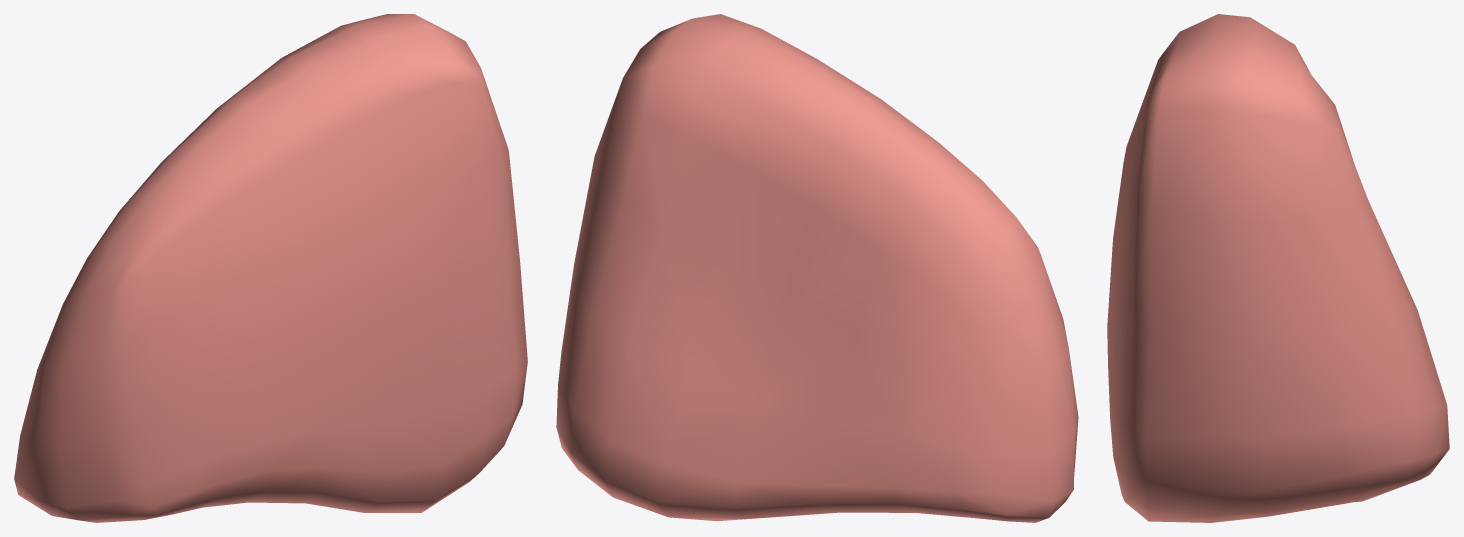
Rendered from mixamo_humanoid_surface_rightToe.fbx.
3 renders of one model, left to right at view 1: azimuth 30°, elevation 25°; view 2: azimuth 150°, elevation 25°; view 3: azimuth 270°, elevation 25°, orthographic. The views are drawn at different scales.
Parts seen in each view (by area): view 1: surface_RightToe; view 2: surface_RightToe; view 3: surface_RightToe.
Part boxes in pixels (box(x1,y1,x2,y2)): surface_RightToe: box(14, 14, 527, 522); surface_RightToe: box(556, 14, 1078, 522); surface_RightToe: box(1107, 14, 1449, 522).
Bounding box in the file's own units: 9.94 × 9.05 × 5.96.
